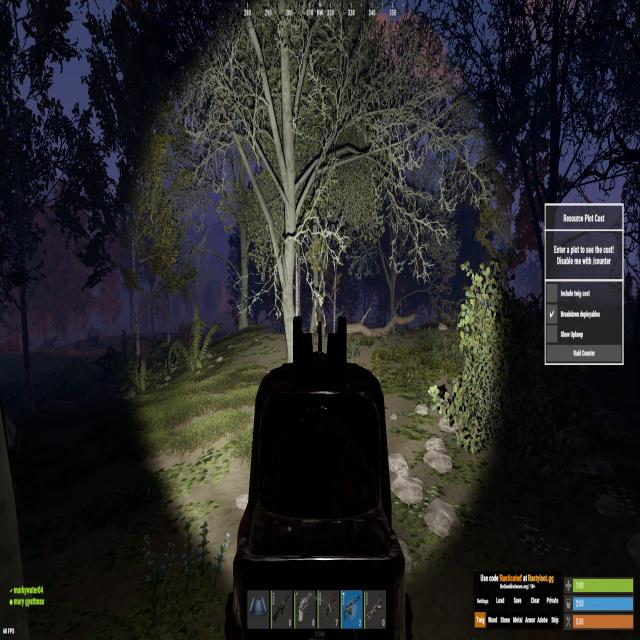Player: (315, 298, 326, 339)
